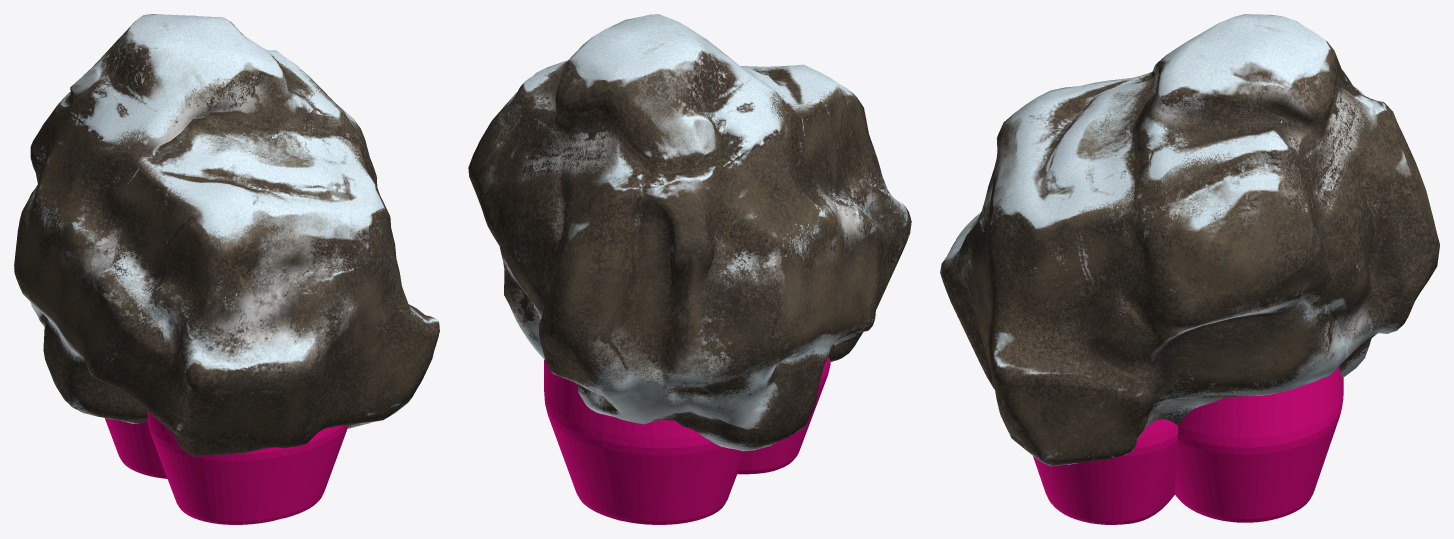
Rendered from astn8.fbx.
3 views of the same model, side by side, from view 1: azimuth 30°, elevation 25°; view 2: azimuth 150°, elevation 25°; view 3: azimuth 270°, elevation 25° (orthographic). The views are drawn at different scales.
Parts seen in each view (by area): view 1: node_id132, node_id46; view 2: node_id132, node_id46; view 3: node_id132, node_id46.
Part boxes in pixels (x1,y1,x2,y2): node_id132: (14,14,439,456); node_id46: (105,410,348,524); node_id132: (468,14,911,451); node_id46: (544,357,830,524); node_id132: (940,14,1439,466); node_id46: (1033,366,1343,524).
Bounding box in the file's own units: 46.39 × 60.61 × 59.76.
Materials: 2 (2 with a texture image).
